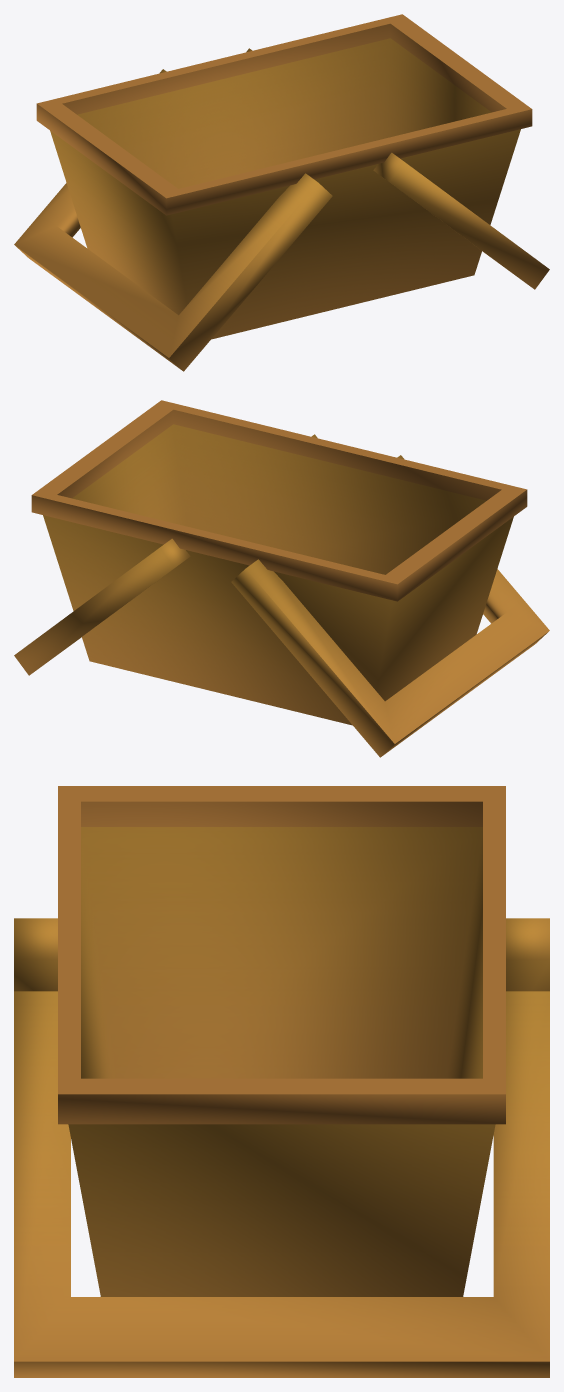
Rendered from Basket.fbx.
The picture shows the model from 3 angles, top to bottom: view 1: azimuth 30°, elevation 25°; view 2: azimuth 150°, elevation 25°; view 3: azimuth 270°, elevation 25°; orthographic projection. The views are drawn at different scales.
Parts seen in each view (by area): view 1: Basket; view 2: Basket; view 3: Basket.
Boxes of the visible parts, left/top/right/bottom form: Basket: left=14, top=14, right=549, bottom=371; Basket: left=14, top=400, right=549, bottom=757; Basket: left=14, top=786, right=549, bottom=1377.
Size of the model in its own units: 2.17 by 0.9207 by 1.53.
